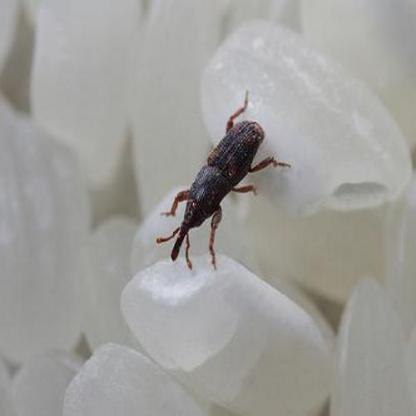rice-bug: (162, 100, 273, 272)
